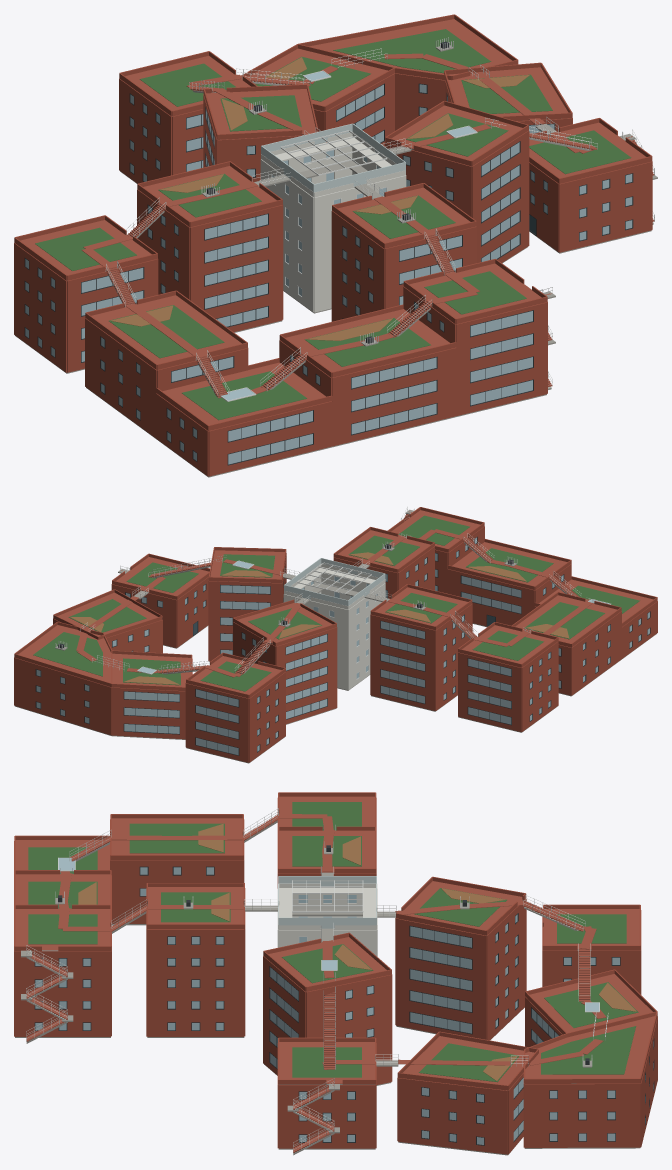
Rendered from yuanbai-precise-v2.glb.
3 views of the same model, one above another, from view 1: azimuth 30°, elevation 25°; view 2: azimuth 150°, elevation 25°; view 3: azimuth 270°, elevation 25° (orthographic). The views are drawn at different scales.
Visible parts, largest first — view 1: A07_MAT_BRICK_YUANBAI, A08_MAT_GRC_WHITE, A10_MAT_BRICK_YUANBAI, A06_MAT_BRICK_YUANBAI, A03_MAT_BRICK_YUANBAI, A05_MAT_BRICK_YUANBAI, A04_MAT_BRICK_YUANBAI, A09_MAT_BRICK_YUANBAI, A01_MAT_BRICK_YUANBAI, A02_MAT_BRICK_YUANBAI, A12_MAT_BRICK_YUANBAI, A14_MAT_BRICK_YUANBAI (+54 smaller); view 2: A07_MAT_BRICK_YUANBAI, A12_MAT_BRICK_YUANBAI, A06_MAT_BRICK_YUANBAI, A14_MAT_BRICK_YUANBAI, A08_MAT_GRC_WHITE, A11_MAT_BRICK_YUANBAI, A01_MAT_BRICK_YUANBAI, A03_MAT_BRICK_YUANBAI, A10_MAT_BRICK_YUANBAI, A09_MAT_BRICK_YUANBAI, A13_MAT_BRICK_YUANBAI, A05_MAT_BRICK_YUANBAI (+47 smaller); view 3: A11_MAT_BRICK_YUANBAI, A05_MAT_BRICK_YUANBAI, A14_MAT_BRICK_YUANBAI, A15_MAT_BRICK_YUANBAI, A09_MAT_BRICK_YUANBAI, A04_MAT_BRICK_YUANBAI, A10_MAT_BRICK_YUANBAI, A01_MAT_BRICK_YUANBAI, A08_MAT_GRC_WHITE, A12_MAT_BRICK_YUANBAI, A11_MAT_GLASS_CLEAR, A14_MAT_GRASS (+50 smaller).
Boxes of the visible parts, x1=… form: A07_MAT_BRICK_YUANBAI: x1=137, y1=161, x2=283, y2=331; A08_MAT_GRC_WHITE: x1=260, y1=132, x2=406, y2=312; A10_MAT_BRICK_YUANBAI: x1=529, y1=118, x2=652, y2=252; A06_MAT_BRICK_YUANBAI: x1=14, y1=215, x2=158, y2=372; A03_MAT_BRICK_YUANBAI: x1=279, y1=304, x2=456, y2=446; A05_MAT_BRICK_YUANBAI: x1=331, y1=183, x2=476, y2=321; A04_MAT_BRICK_YUANBAI: x1=403, y1=259, x2=547, y2=415; A09_MAT_BRICK_YUANBAI: x1=385, y1=101, x2=529, y2=262; A01_MAT_BRICK_YUANBAI: x1=85, y1=290, x2=248, y2=438; A02_MAT_BRICK_YUANBAI: x1=156, y1=358, x2=332, y2=476; A12_MAT_BRICK_YUANBAI: x1=119, y1=51, x2=257, y2=183; A14_MAT_BRICK_YUANBAI: x1=298, y1=14, x2=518, y2=130; A07_MAT_BRICK_YUANBAI: x1=370, y1=584, x2=472, y2=710; A12_MAT_BRICK_YUANBAI: x1=185, y1=652, x2=285, y2=762; A06_MAT_BRICK_YUANBAI: x1=458, y1=622, x2=558, y2=731; A14_MAT_BRICK_YUANBAI: x1=14, y1=621, x2=112, y2=735; A08_MAT_GRC_WHITE: x1=283, y1=563, x2=385, y2=689; A11_MAT_BRICK_YUANBAI: x1=233, y1=599, x2=337, y2=724; A01_MAT_BRICK_YUANBAI: x1=512, y1=592, x2=621, y2=695; A03_MAT_BRICK_YUANBAI: x1=447, y1=539, x2=571, y2=626; A10_MAT_BRICK_YUANBAI: x1=111, y1=553, x2=209, y2=647; A09_MAT_BRICK_YUANBAI: x1=208, y1=547, x2=286, y2=661; A13_MAT_BRICK_YUANBAI: x1=111, y1=650, x2=192, y2=739; A05_MAT_BRICK_YUANBAI: x1=333, y1=527, x2=434, y2=598; A11_MAT_BRICK_YUANBAI: x1=395, y1=876, x2=526, y2=1040; A05_MAT_BRICK_YUANBAI: x1=146, y1=883, x2=245, y2=1036; A14_MAT_BRICK_YUANBAI: x1=523, y1=1011, x2=657, y2=1147; A15_MAT_BRICK_YUANBAI: x1=397, y1=1031, x2=538, y2=1154; A09_MAT_BRICK_YUANBAI: x1=263, y1=932, x2=392, y2=1084; A04_MAT_BRICK_YUANBAI: x1=14, y1=904, x2=111, y2=1036; A10_MAT_BRICK_YUANBAI: x1=277, y1=1037, x2=376, y2=1148; A01_MAT_BRICK_YUANBAI: x1=110, y1=814, x2=244, y2=923; A08_MAT_GRC_WHITE: x1=277, y1=883, x2=377, y2=956; A12_MAT_BRICK_YUANBAI: x1=542, y1=904, x2=641, y2=994; A11_MAT_GLASS_CLEAR: x1=410, y1=914, x2=517, y2=1033; A14_MAT_GRASS: x1=541, y1=1026, x2=636, y2=1074.
Size of the model in its own units: 103 by 21.61 by 103.
